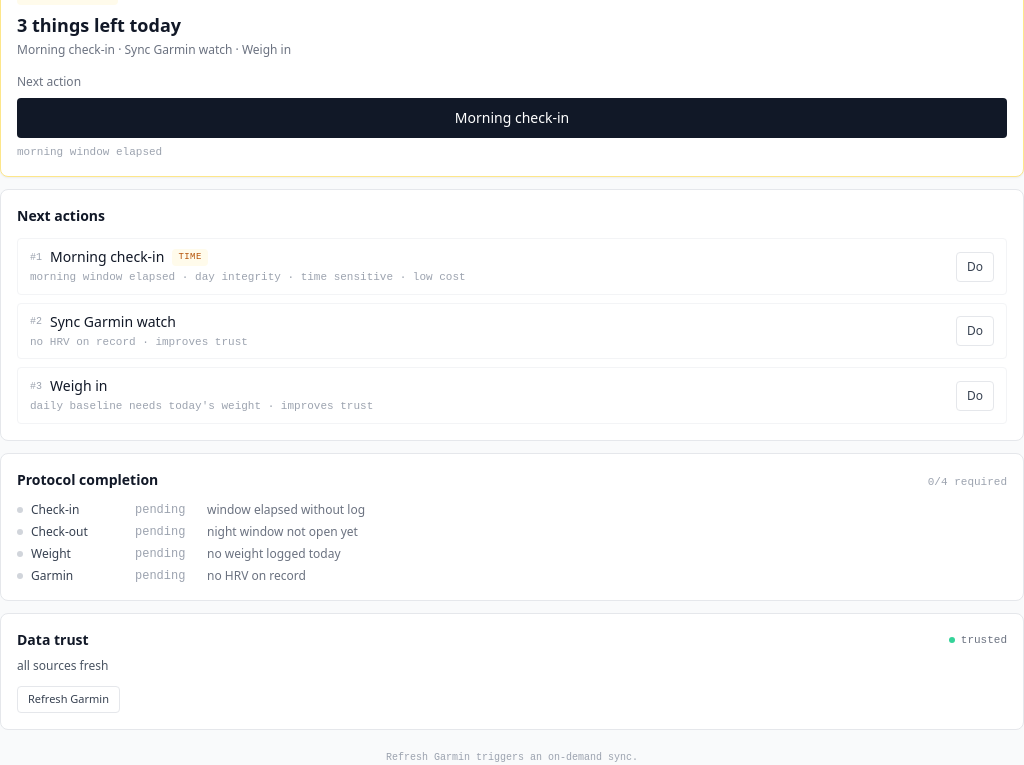
it: Garmin sync UI flow › already_running → shows "already running" note and does NOT invalidate
(page scrolled)
Check: the element with test id "today-trust" is shown, box [0, 613, 1023, 730]
Click the button "Refresh Garmin" at (68, 700), box [17, 686, 120, 713]
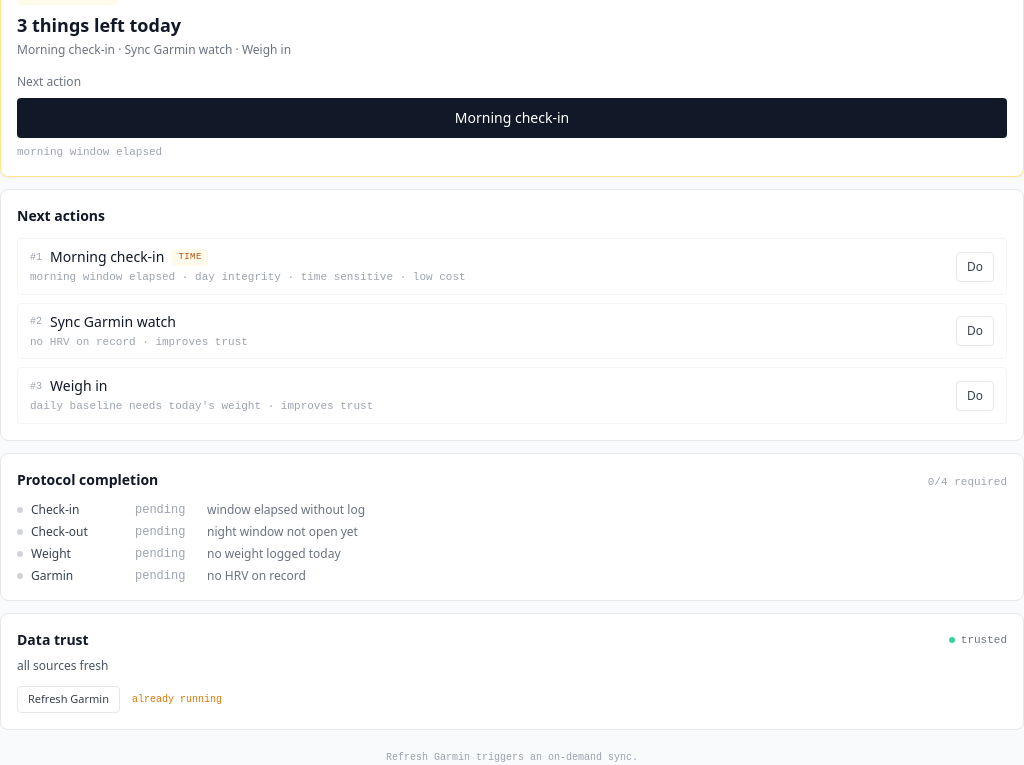
Check: the text with test id "garmin-sync-note" reads "already running", box [132, 694, 222, 705]
